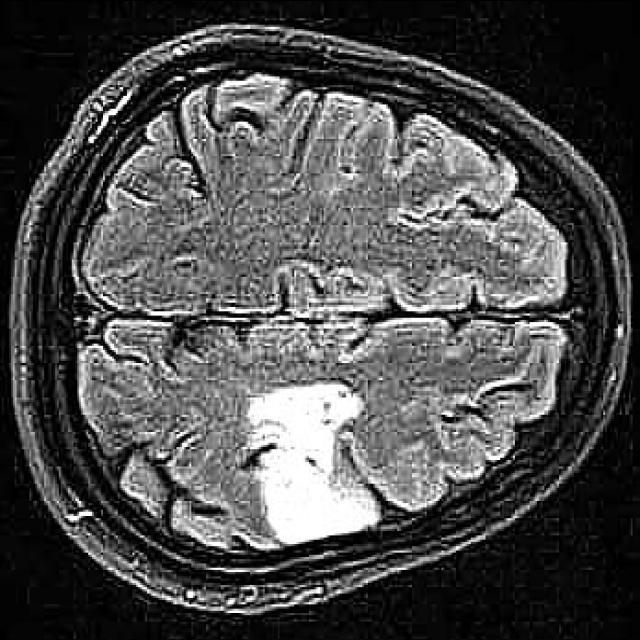tumor: (248, 381, 384, 545)
